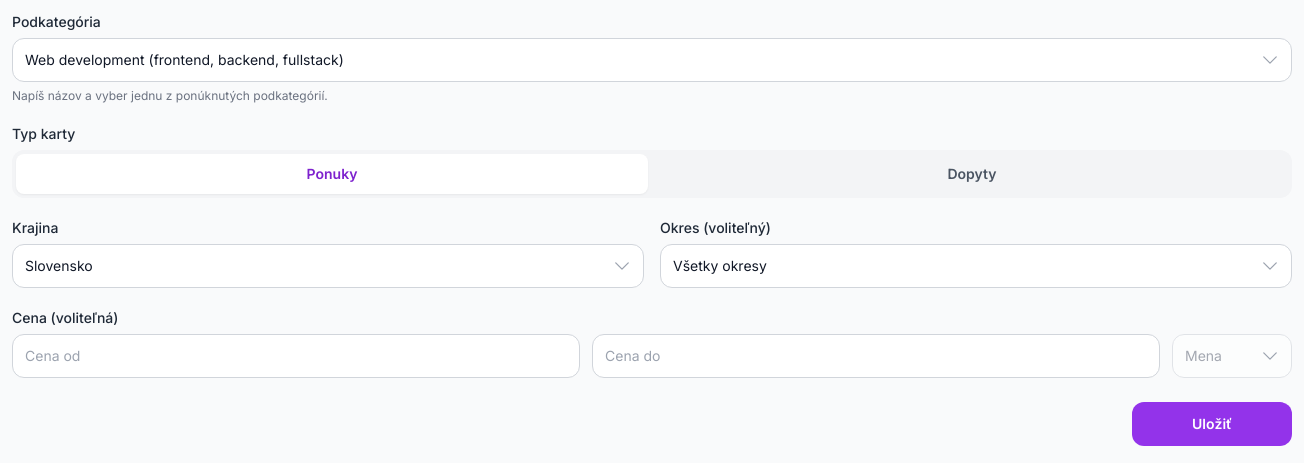
Test: shared price controls (mobile=false) › clears a standalone zero only on blur of Cena do
This screenshot has width=1304, height=463.
Type "0,00" into the field labelled "Cena do". click: {"x": 876, "y": 356}
box: [592,334,1160,378]
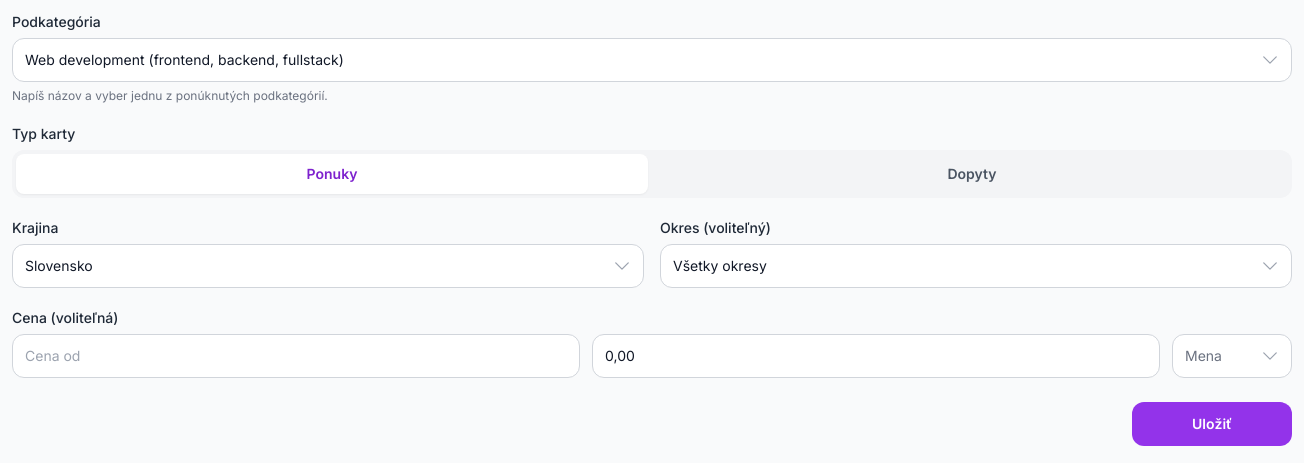
Leave the field named "Cena do", box [592,334,1160,378]
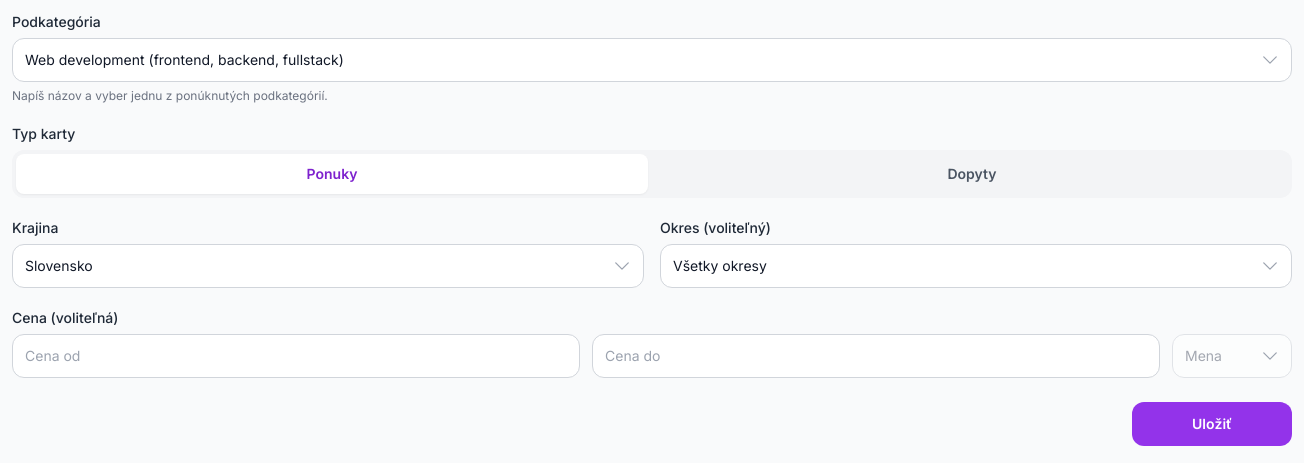
Expected: the dropdown labelled "Mena" is empty, [1172,334,1292,378]
Expected: the field labelled "Cena do" is empty, [592,334,1160,378]
Expected: the dropdown labelled "Mena" is disabled, [1172,334,1292,378]
